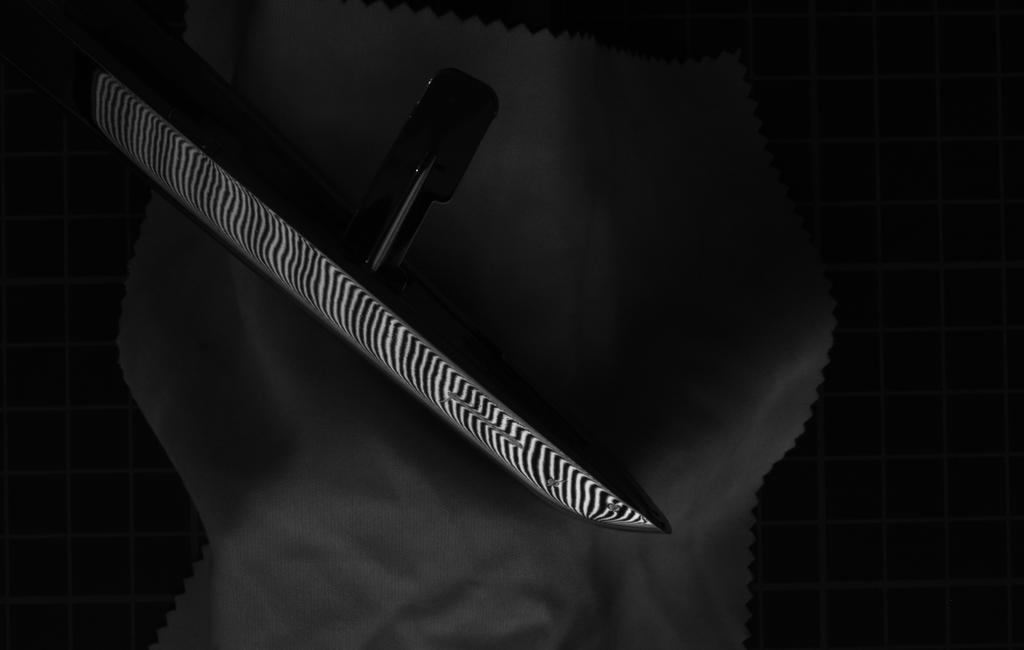Pierced: (601, 495, 626, 517), (541, 474, 571, 491)
Scratch: (445, 389, 530, 454)
